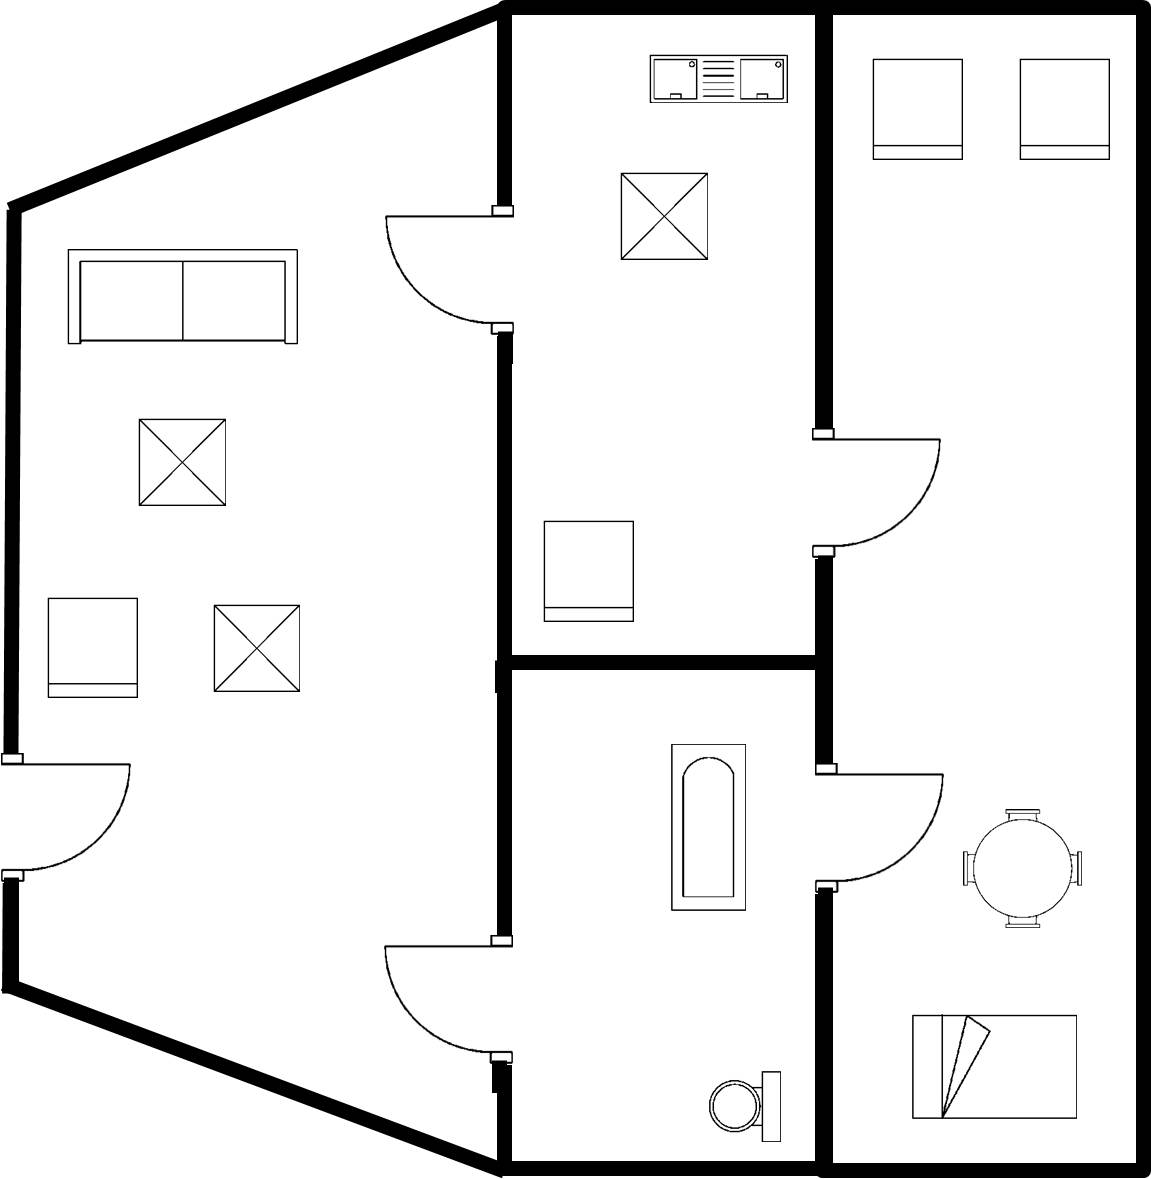bed: (903, 1006, 1087, 1127)
coffee_table: (610, 162, 719, 271), (131, 411, 234, 514), (204, 597, 308, 699)
large_sink: (699, 1064, 792, 1148)
large_sofa: (60, 242, 308, 352)
round_table: (952, 802, 1088, 940)
small_sofa: (529, 510, 648, 635), (1006, 49, 1117, 167), (38, 589, 147, 706), (863, 51, 972, 168)
tub: (661, 734, 753, 921)
twin_sink: (639, 48, 800, 113)
